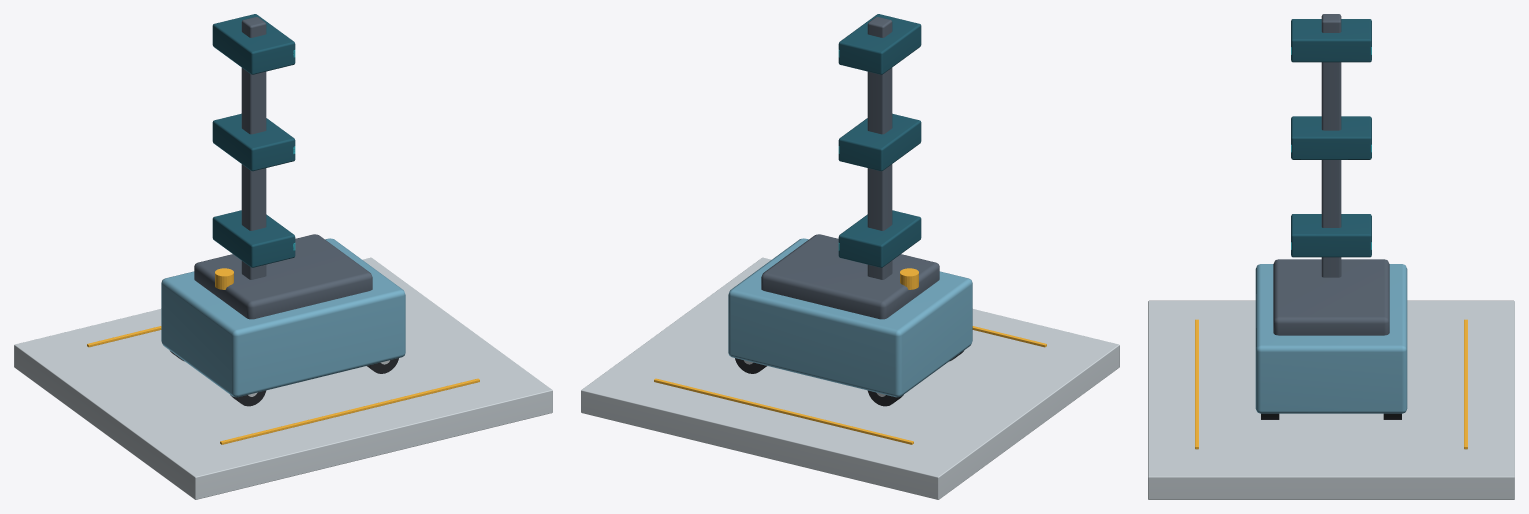
The picture shows the model from 3 angles, left to right: view 1: azimuth 30°, elevation 25°; view 2: azimuth 150°, elevation 25°; view 3: azimuth 270°, elevation 25°; orthographic projection.
Parts seen in each view (by area): view 1: Ground plane, Autonomous platform, Top load interface, Inventory scanner mast, Inventory imaging head.002, Inventory imaging head, Inventory imaging head.001, Concept clearance guide; view 2: Ground plane, Autonomous platform, Top load interface, Inventory scanner mast, Inventory imaging head.002, Inventory imaging head.001, Inventory imaging head, Concept clearance guide.001; view 3: Ground plane, Autonomous platform, Top load interface, Inventory scanner mast, Inventory imaging head.002, Inventory imaging head, Inventory imaging head.001, Concept clearance guide, Concept clearance guide.001.
Part boxes in pixels (x1,y1,x2,y2): Ground plane: (14, 257, 552, 499); Autonomous platform: (161, 238, 405, 397); Top load interface: (194, 234, 372, 319); Inventory scanner mast: (241, 17, 266, 279); Inventory imaging head.002: (212, 14, 295, 74); Inventory imaging head: (212, 210, 295, 267); Inventory imaging head.001: (212, 113, 295, 171); Concept clearance guide: (220, 378, 479, 444); Ground plane: (581, 257, 1119, 499); Autonomous platform: (728, 238, 972, 397); Top load interface: (761, 234, 939, 319); Inventory scanner mast: (867, 17, 892, 279); Inventory imaging head.002: (838, 14, 921, 74); Inventory imaging head.001: (838, 113, 921, 171); Inventory imaging head: (838, 210, 921, 267); Concept clearance guide.001: (654, 378, 913, 444); Ground plane: (1148, 300, 1514, 499); Autonomous platform: (1255, 264, 1407, 413); Top load interface: (1273, 259, 1389, 335); Inventory scanner mast: (1321, 14, 1341, 277); Inventory imaging head.002: (1291, 19, 1371, 62); Inventory imaging head: (1291, 214, 1371, 257); Inventory imaging head.001: (1291, 116, 1371, 159); Concept clearance guide: (1195, 319, 1198, 449); Concept clearance guide.001: (1464, 319, 1467, 449).
Size of the model in its own units: 1.94 by 1.95 by 1.7.
